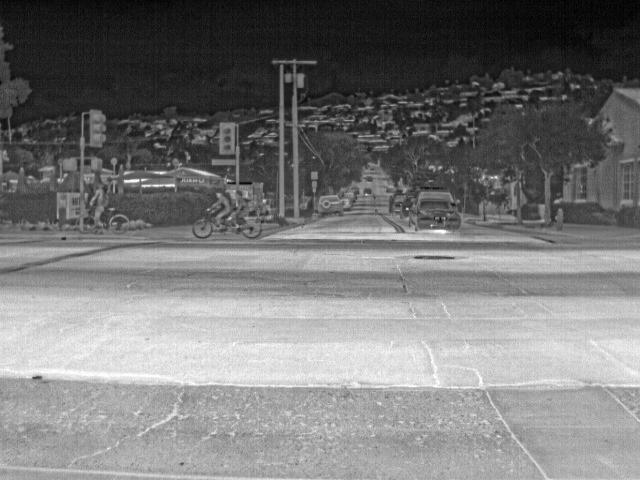car: (410, 188, 463, 232), (247, 179, 264, 217), (317, 194, 343, 217), (398, 196, 416, 220), (389, 193, 405, 213), (344, 192, 355, 203), (342, 199, 351, 210), (386, 184, 397, 193), (364, 186, 373, 196), (349, 186, 359, 195)
person: (94, 181, 109, 231), (213, 190, 230, 234), (232, 188, 248, 234)
